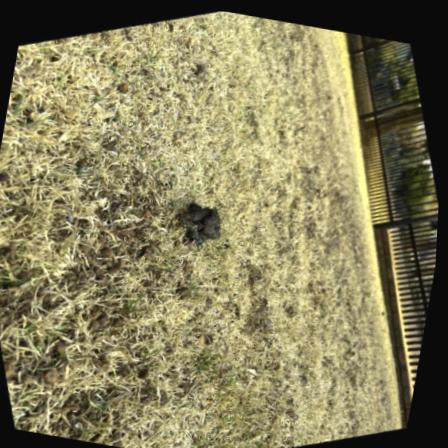dog-poop: (178, 200, 230, 245)
